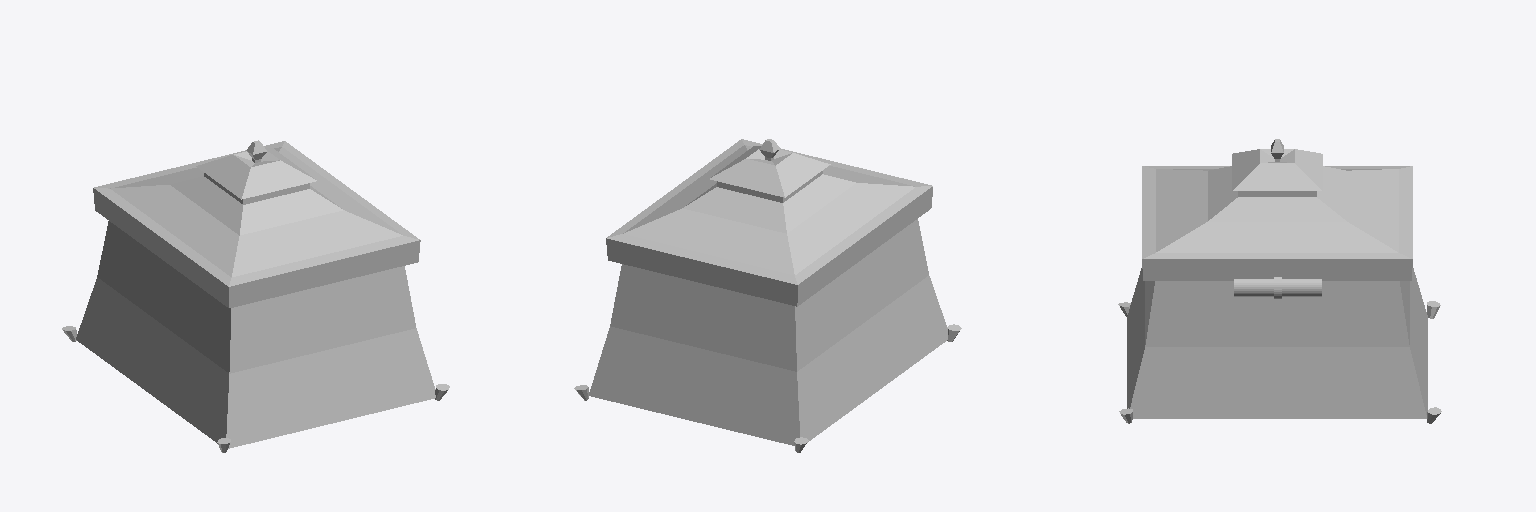
Rendered from potiontent.obj.
3 renders of one model, left to right at view 1: azimuth 30°, elevation 25°; view 2: azimuth 150°, elevation 25°; view 3: azimuth 270°, elevation 25°, orthographic.
Parts seen in each view (by area): view 1: base; view 2: base; view 3: base, dark.
Part boxes in pixels (left/top/right/bottom): base: left=76, top=140, right=435, bottom=448; base: left=589, top=139, right=947, bottom=445; base: left=1127, top=139, right=1427, bottom=418; dark: left=1228, top=297, right=1326, bottom=418.
Size of the model in its own units: 10.73 by 10.15 by 12.94.